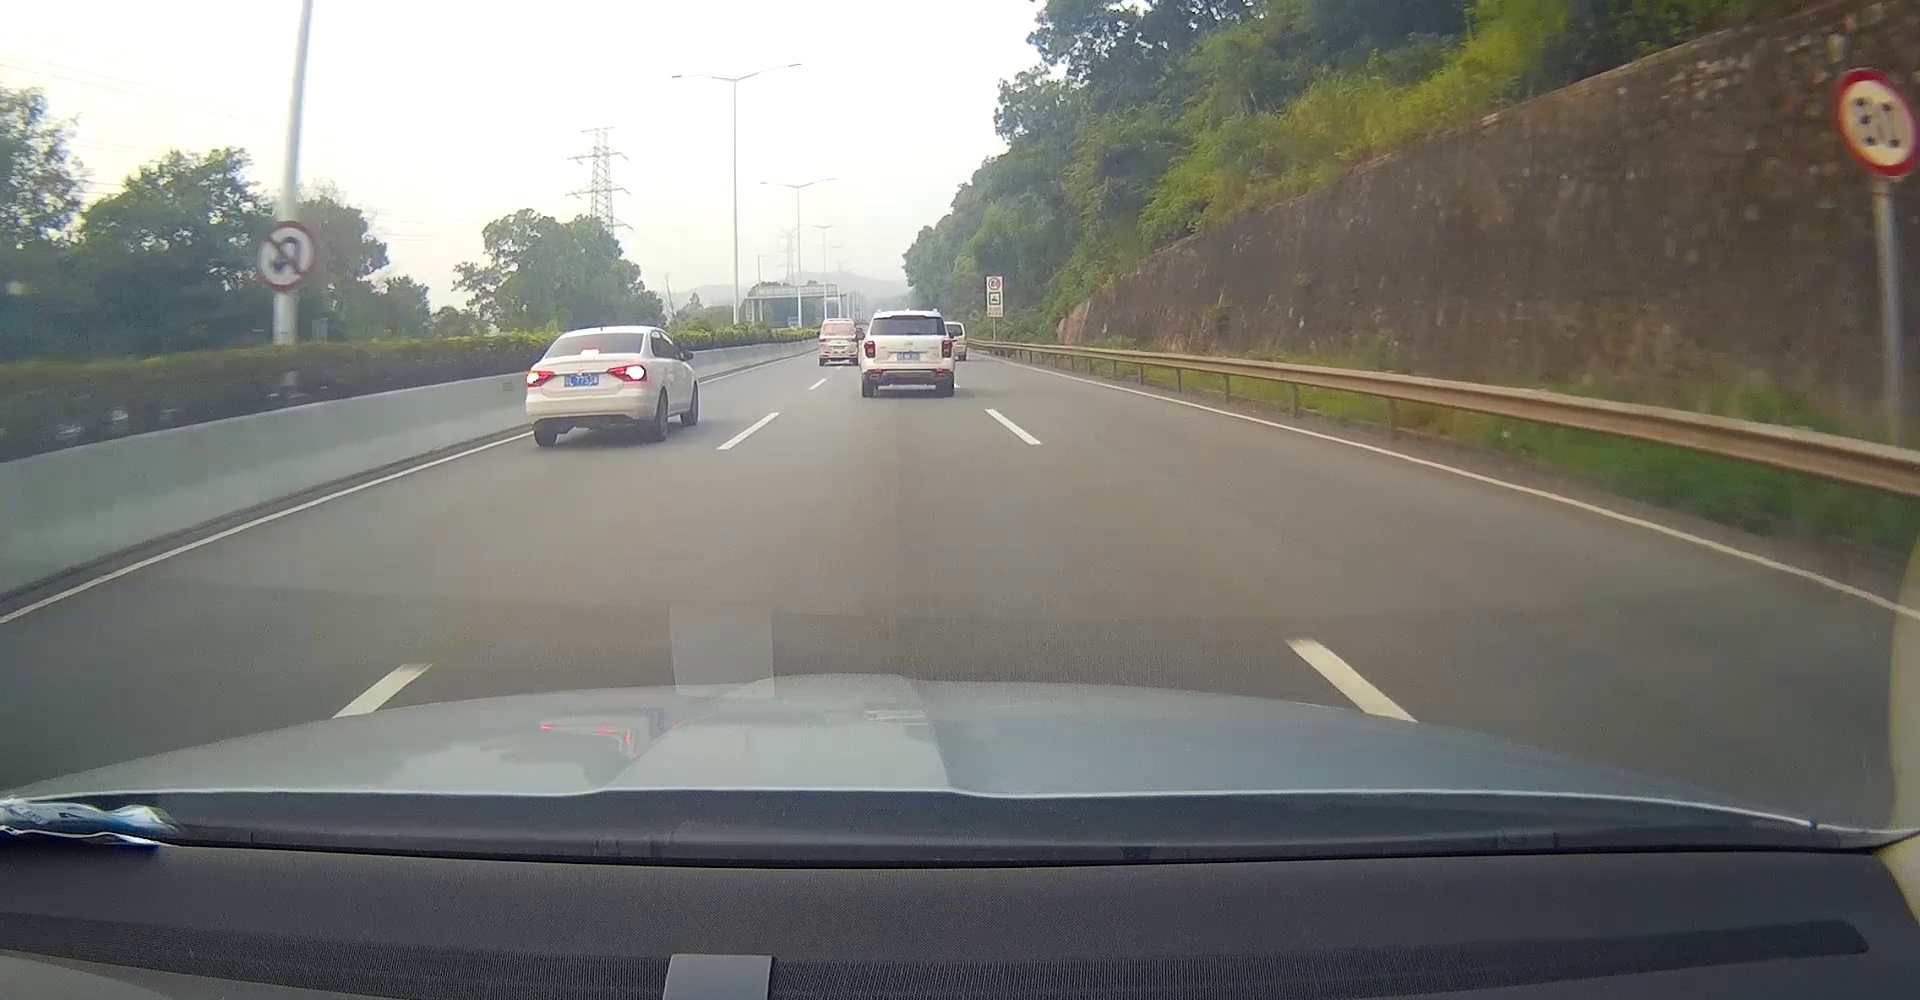L_light: (526, 371, 555, 386), (863, 340, 876, 358), (819, 338, 825, 341)
R_light: (606, 363, 648, 382), (941, 340, 952, 358), (848, 338, 857, 341)
T_light: (580, 348, 599, 355), (891, 315, 924, 319), (836, 324, 841, 325)
day-brake: (524, 326, 649, 445)
day-no: (861, 310, 954, 397), (819, 319, 858, 365)
